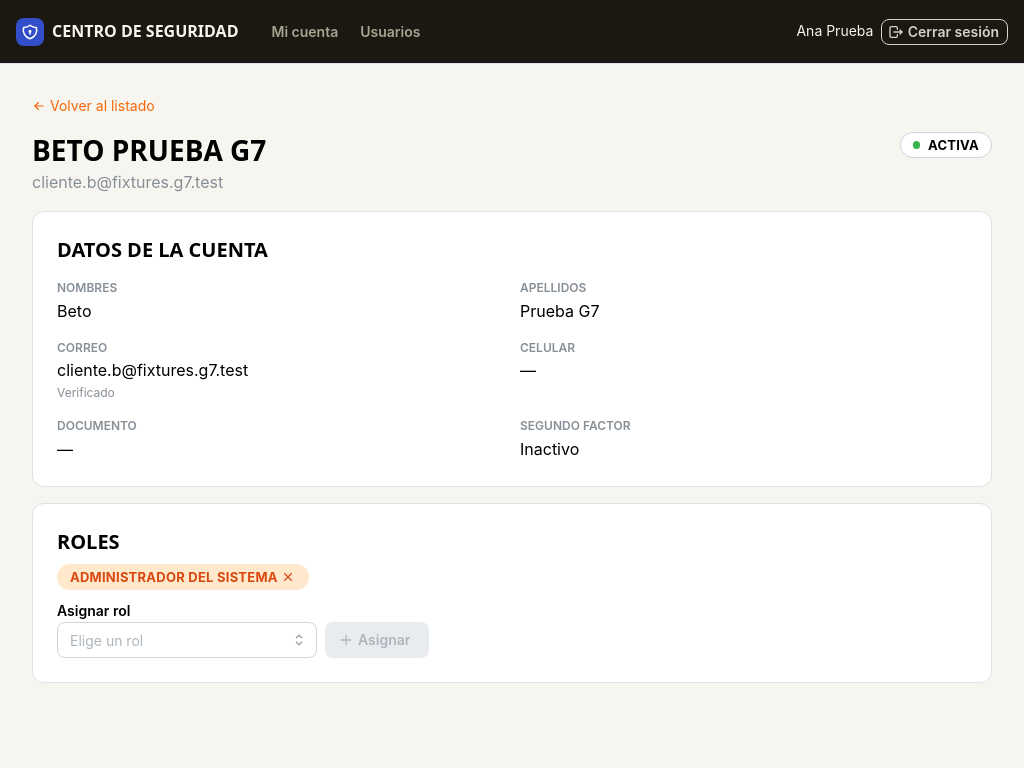
it: FRONT-08 detalle + SeccionRoles › revocar el último administrador muestra el error del backend y deja el diálogo abierto
Click the button named "Revocar el rol Administrador del sistema". click: (288, 577)
box: [280,566,296,588]
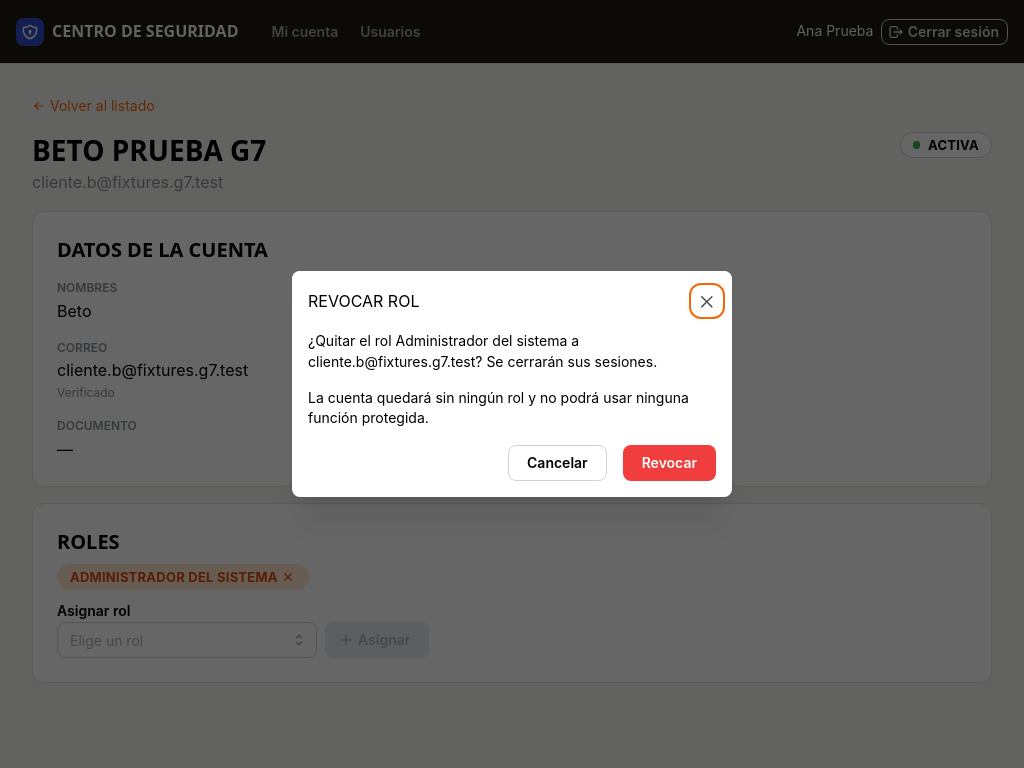
Expected: the text "quedará sin ningún rol" is shown, [308,389,689,426]
Click the button "Revocar". click: (669, 463)
box: [623,445,716,481]
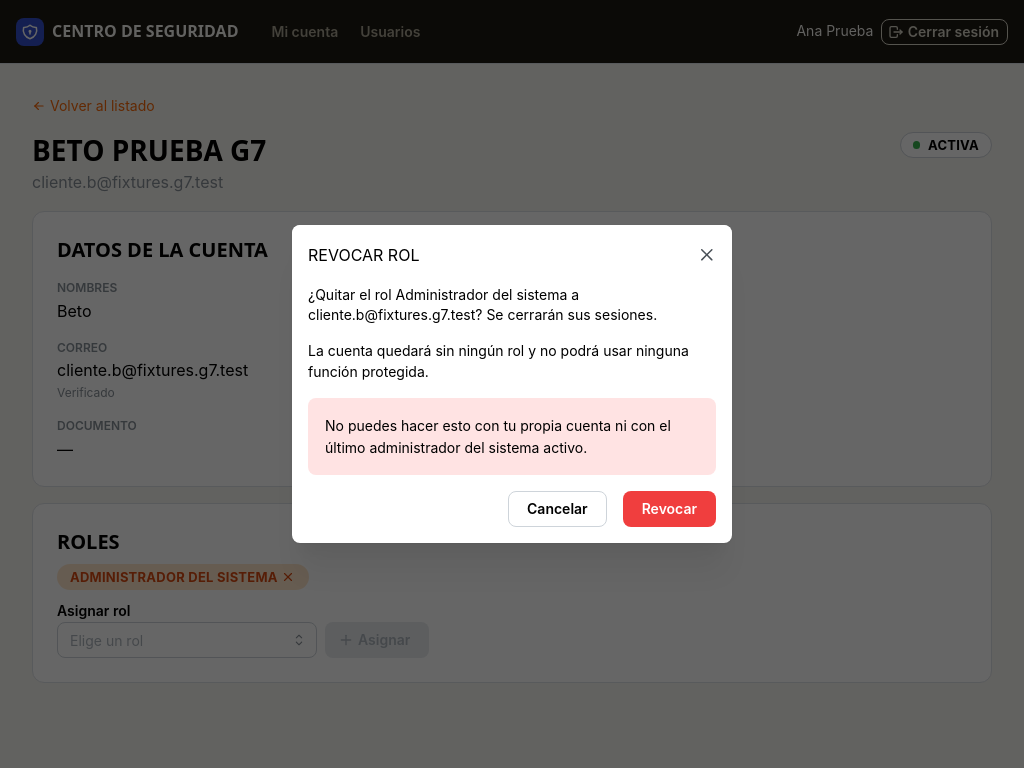
Expected: the message shows "último administrador", [325,417,671,456]
